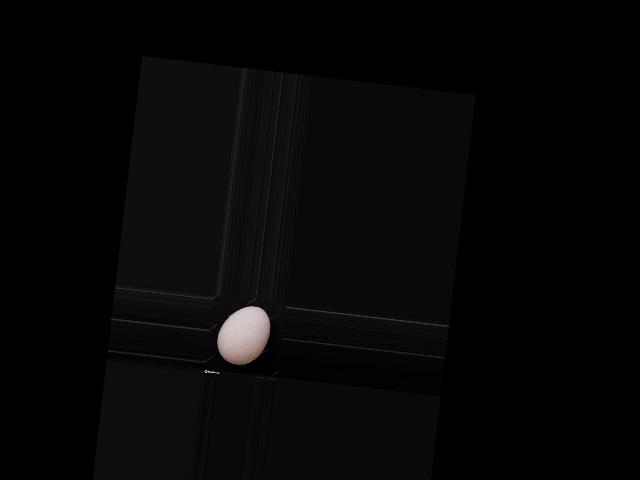egg: (215, 302, 273, 368)
